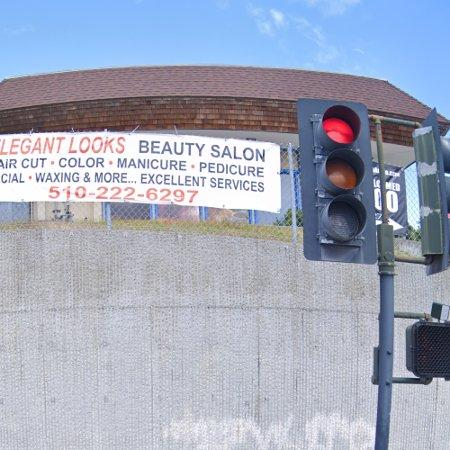traffic lights: (300, 100, 378, 265)
